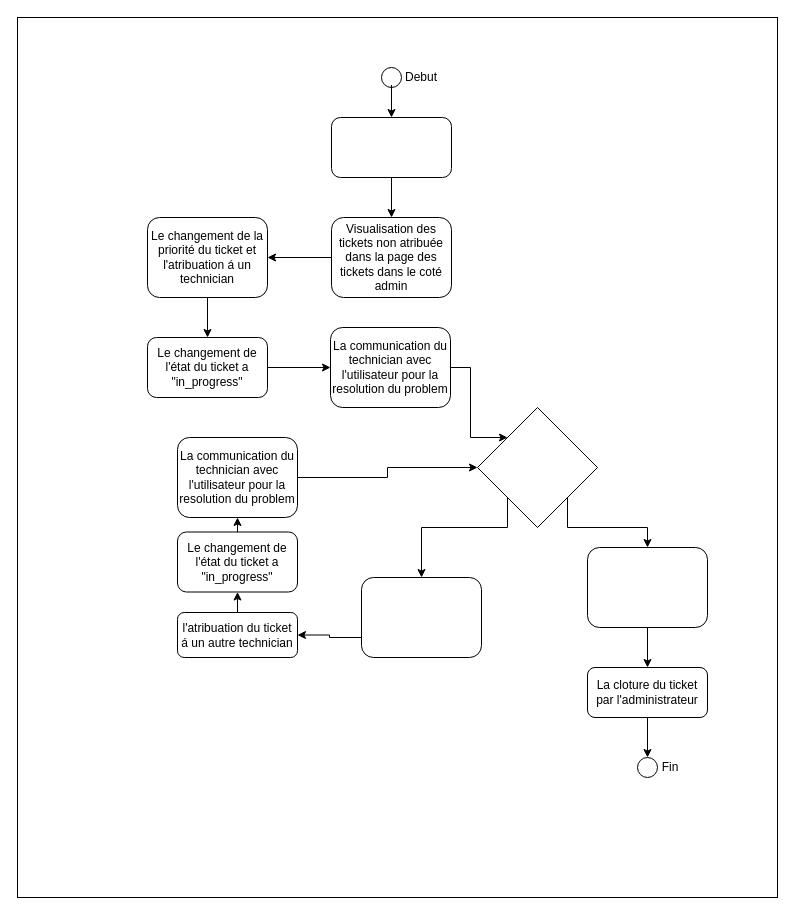
Some shapes in this 795 by 915 pixel diagram are drawn without their labels. The box of each missing label's shape, as (x1, y1, x2, y2) in pixels:
Ajout d'une noveau ticket aprés une incident technique par un utilisateur: (330, 116, 452, 178)
Le changement de l'état du ticket a "rejected" par le technician: (360, 576, 482, 658)
Le changement de l'état du ticket a "resolved" par le technician: (586, 546, 708, 628)
Le problem a été resolu?: (476, 406, 598, 528)
